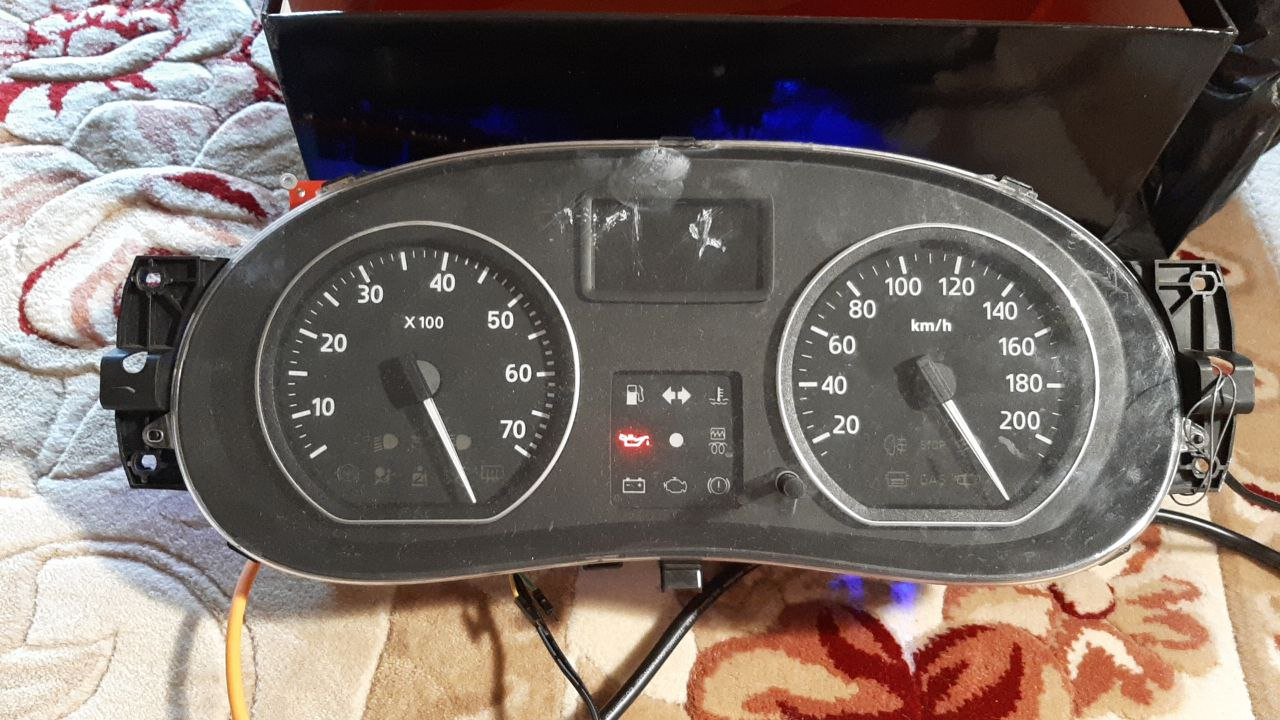oil: (612, 425, 652, 455)
